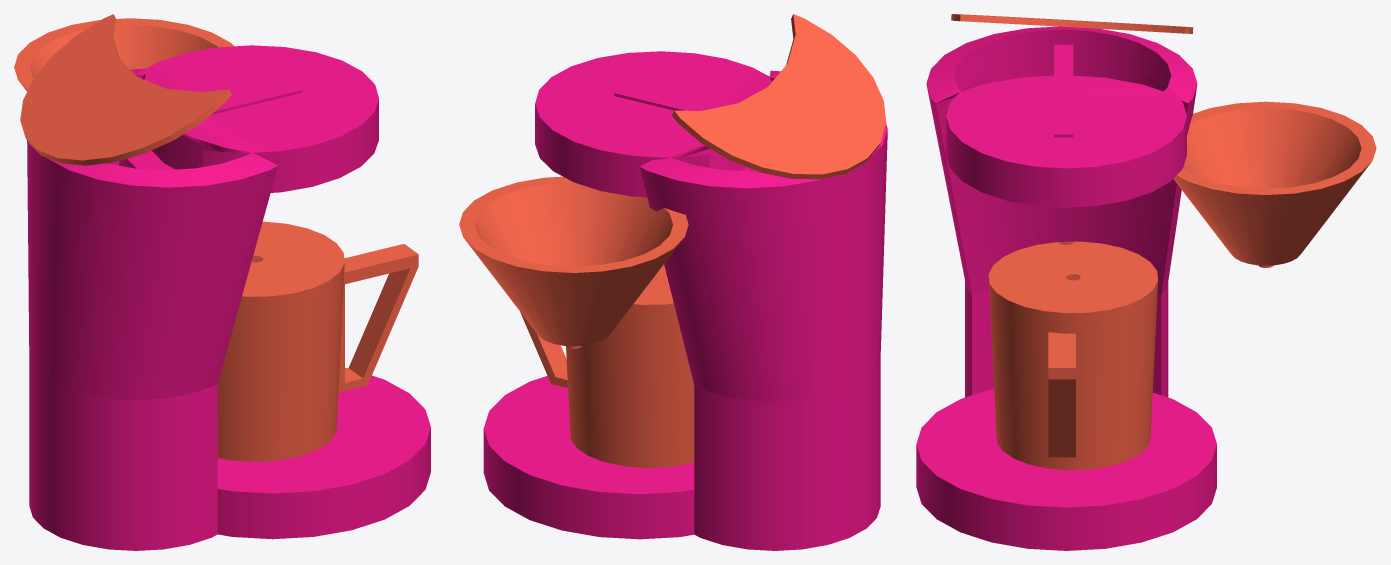
File: coffe_maker.fbx
3 renders of one model, left to right at view 1: azimuth 30°, elevation 25°; view 2: azimuth 150°, elevation 25°; view 3: azimuth 270°, elevation 25°, orthographic. The views are drawn at different scales.
Parts seen in each view (by area): view 1: base_coffee1, cup1, lid1, filter1, new_base1; view 2: base_coffee1, filter1, cup1, lid1, new_base1; view 3: base_coffee1, cup1, filter1, new_base1, lid1.
Boxes of the visible parts, left/top/right/bottom form: base_coffee1: left=27, top=45, right=430, bottom=550; cup1: left=217, top=221, right=418, bottom=461; lid1: left=20, top=14, right=231, bottom=165; filter1: left=14, top=18, right=233, bottom=91; new_base1: left=107, top=82, right=301, bottom=163; base_coffee1: left=483, top=51, right=887, bottom=550; filter1: left=459, top=176, right=688, bottom=348; cup1: left=520, top=264, right=694, bottom=467; lid1: left=672, top=14, right=886, bottom=179; new_base1: left=614, top=86, right=714, bottom=110; base_coffee1: left=916, top=26, right=1216, bottom=550; cup1: left=988, top=241, right=1158, bottom=470; filter1: left=1173, top=101, right=1376, bottom=267; new_base1: left=1054, top=44, right=1073, bottom=137; lid1: left=951, top=14, right=1193, bottom=33.
Size of the model in its own units: 5.51 by 6.39 by 6.24.
